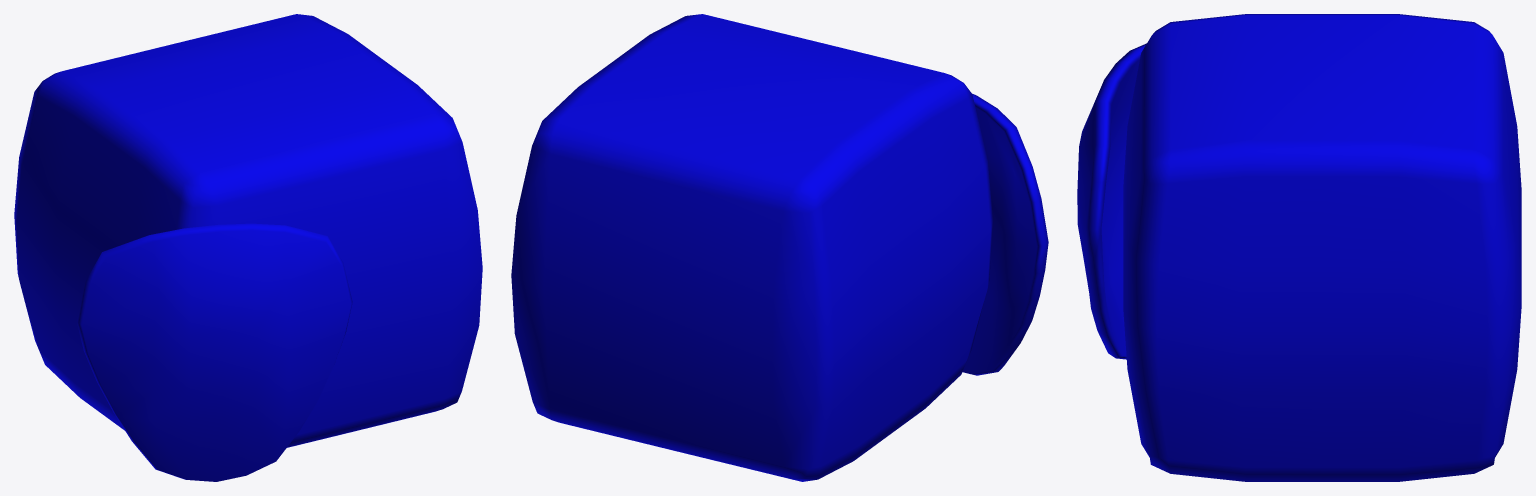
Rendered from m_shielded.fbx.
3 renders of one model, left to right at view 1: azimuth 30°, elevation 25°; view 2: azimuth 150°, elevation 25°; view 3: azimuth 270°, elevation 25°, orthographic. The views are drawn at different scales.
Parts seen in each view (by area): view 1: m_shielded, m_barrier; view 2: m_shielded, m_barrier; view 3: m_shielded, m_barrier.
Boxes of the visible parts, x1,y1,x2,y2 form: m_shielded: (14,14,482,447); m_barrier: (77,223,352,481); m_shielded: (511,14,992,481); m_barrier: (962,94,1048,375); m_shielded: (1123,14,1521,481); m_barrier: (1077,43,1146,359).
Bounding box in the file's own units: 1.94 × 1.51 × 1.78.
